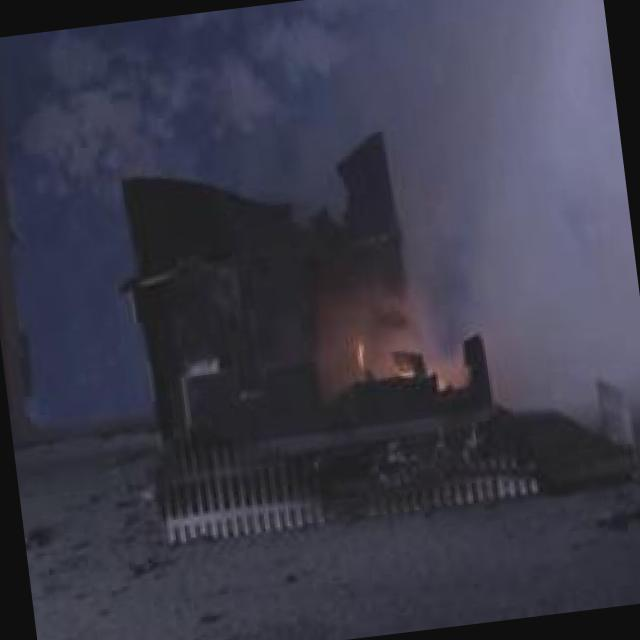smoke: (370, 0, 637, 310)
